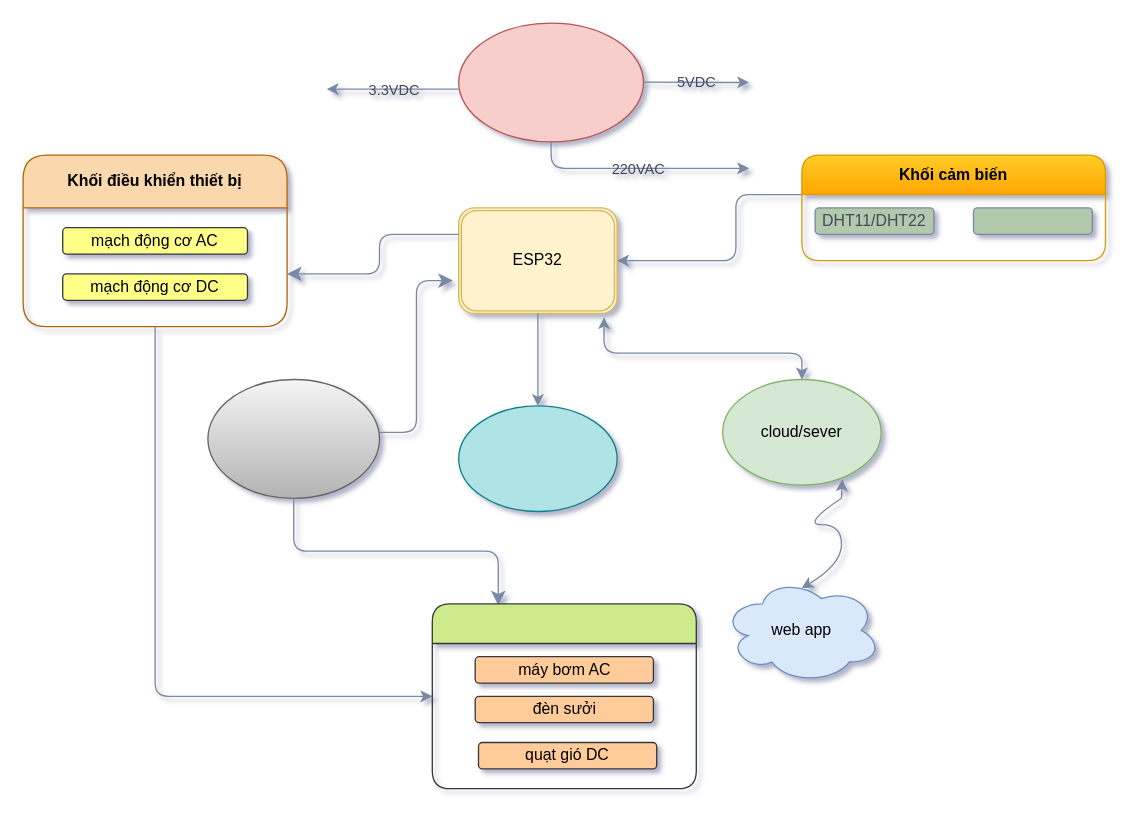
Some shapes in this 1137 by 820 pixel diagram are drawn without their labels. Here are the shapes that lost their labels. From the top down, the box of each, then its label:
(457, 22, 644, 142): Khối nguồn
(972, 207, 1092, 234): PIR HC-SR501
(207, 378, 380, 498): BUTTON
(457, 405, 617, 512): màn hình OLED
(431, 603, 696, 789): Thiết bị đầu ra
